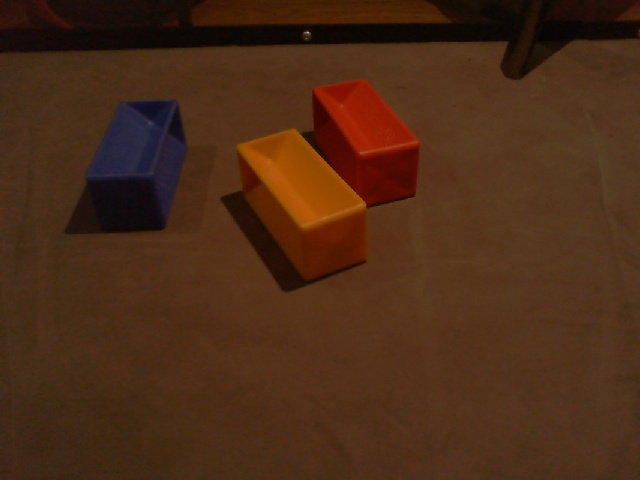BlueSample: (82, 97, 188, 230)
RedSample: (306, 78, 422, 208)
YellowSample: (232, 125, 372, 285)
